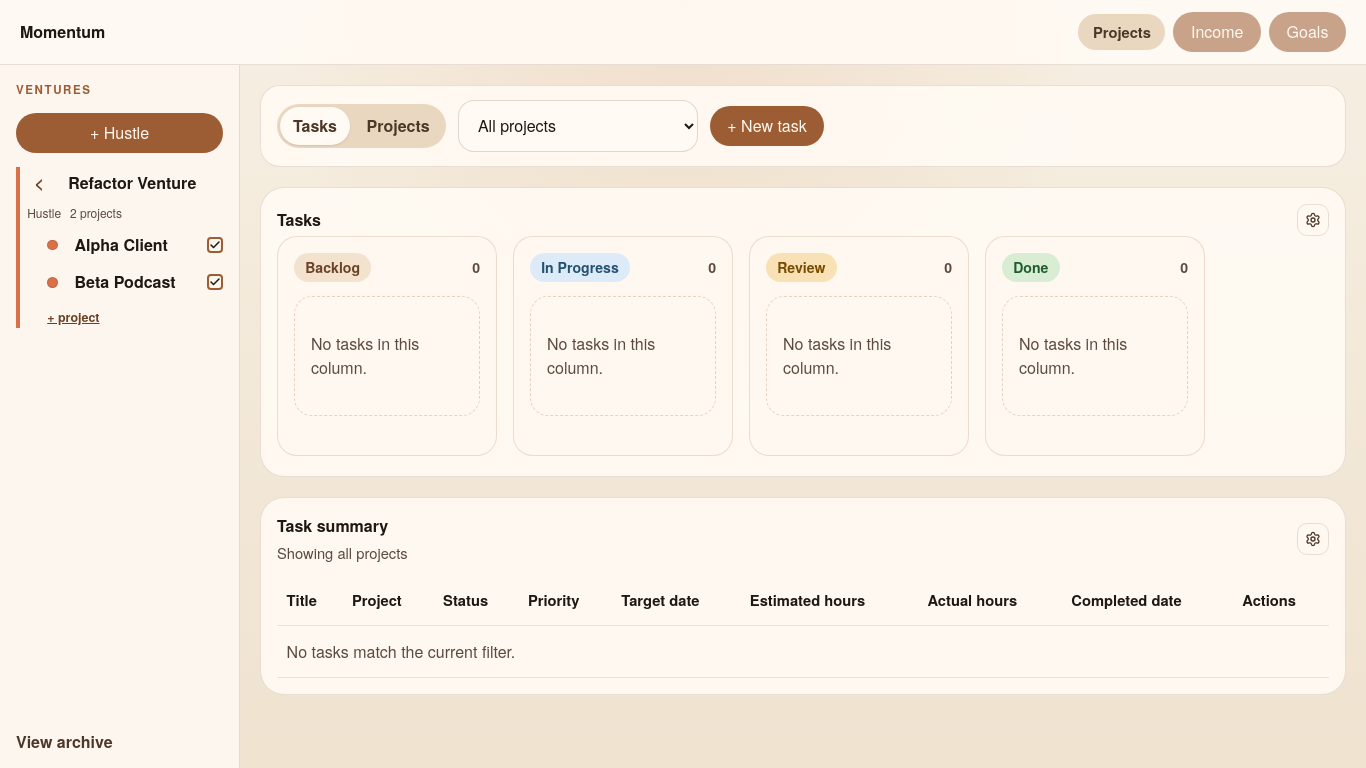
Test case: App frontend refactor baseline › restores the original same-column project order after the server accepts an end drop
Click the tab "Projects" at [398, 126], box x1=354 y1=107 x2=442 y2=145
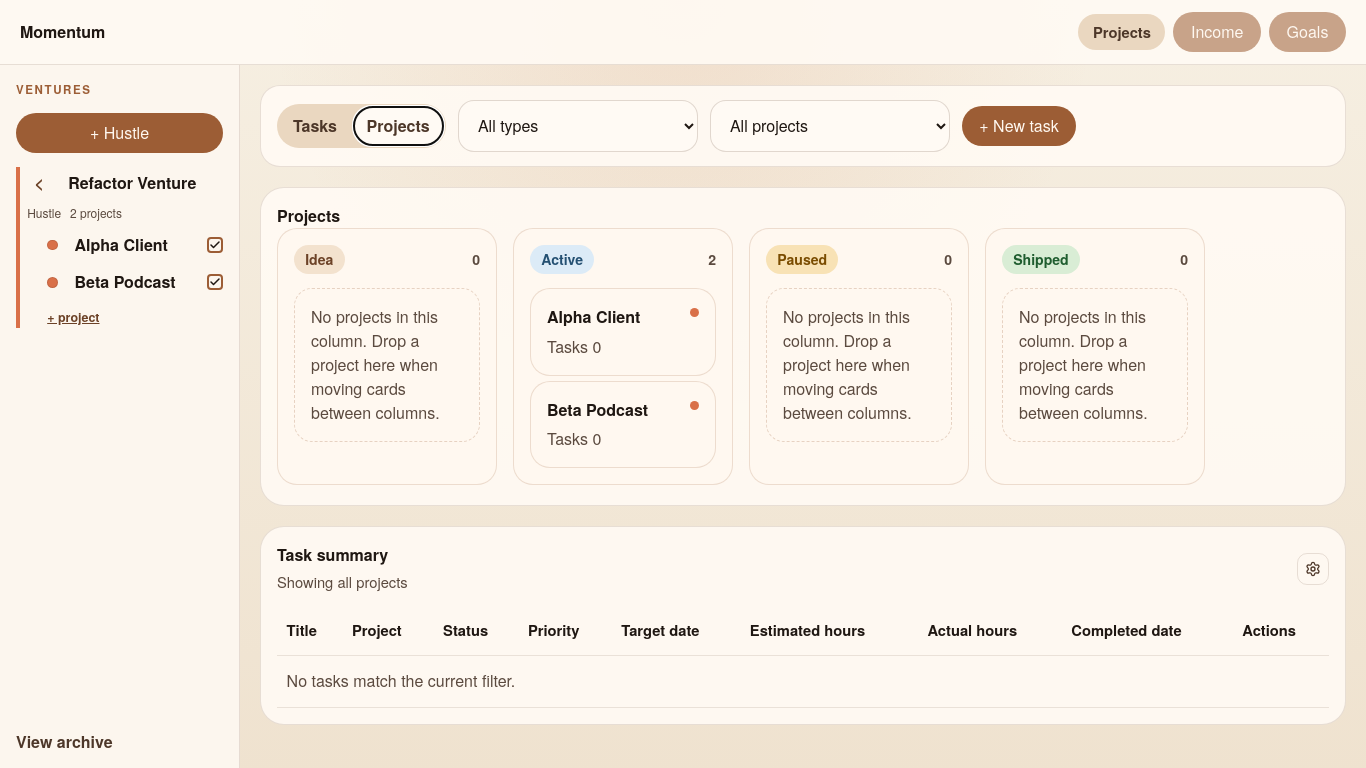
Expected: the button with test id "kanban-project-title" below "Active" is shown, x1=547 y1=305 x2=640 y2=329
